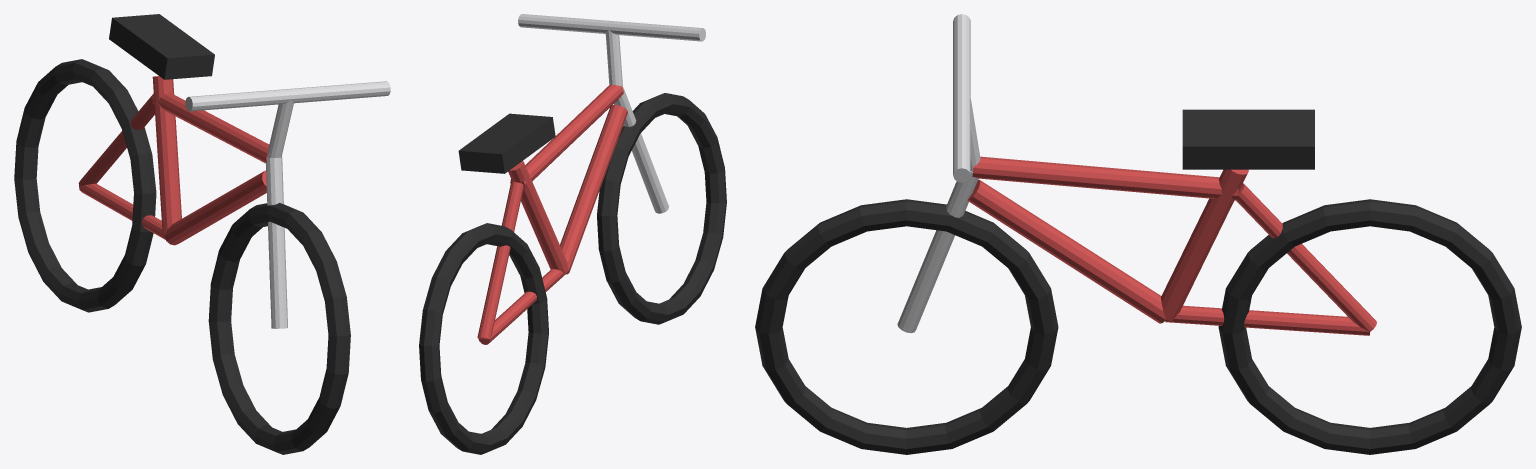
Rendered from yard_bike.glb.
3 views of the same model, side by side, from view 1: azimuth 30°, elevation 25°; view 2: azimuth 150°, elevation 25°; view 3: azimuth 270°, elevation 25° (orthographic). The views are drawn at different scales.
Parts seen in each view (by area): view 1: wheel_f, wheel_r, seat, bar, seat_t, fork, down, top, stay, chain, stem; view 2: wheel_r, wheel_f, seat, down, bar, top, seat_t, stay, fork, chain, stem; view 3: wheel_f, wheel_r, seat, top, down, seat_t, stay, bar, chain, fork.
Boxes of the visible parts, x1,y1,x2,y2 form: wheel_f: (208,203,350,454); wheel_r: (14,59,156,312); seat: (109,14,214,79); bar: (185,81,390,111); seat_t: (152,76,181,236); fork: (266,157,287,328); down: (164,170,266,245); top: (152,93,281,163); stay: (78,94,154,186); chain: (79,183,165,239); stem: (267,100,293,157); wheel_r: (419,223,548,454); wheel_f: (597,93,726,324); seat: (458,113,555,173); down: (560,104,627,274); bar: (518,14,705,41); top: (510,84,623,189); seat_t: (508,161,568,274); stay: (477,182,523,339); fork: (614,87,668,213); chain: (478,269,565,344); stem: (605,29,622,88); wheel_f: (755,199,1058,454); wheel_r: (1218,199,1521,454); seat: (1182,109,1314,169); top: (972,156,1238,200); down: (967,179,1165,323); seat_t: (1161,169,1248,320); stay: (1236,183,1376,331); bar: (953,14,970,182); chain: (1165,305,1369,335); fork: (897,171,978,333).
Bounding box in the file's own units: 0.4989 × 0.8204 × 1.39.
